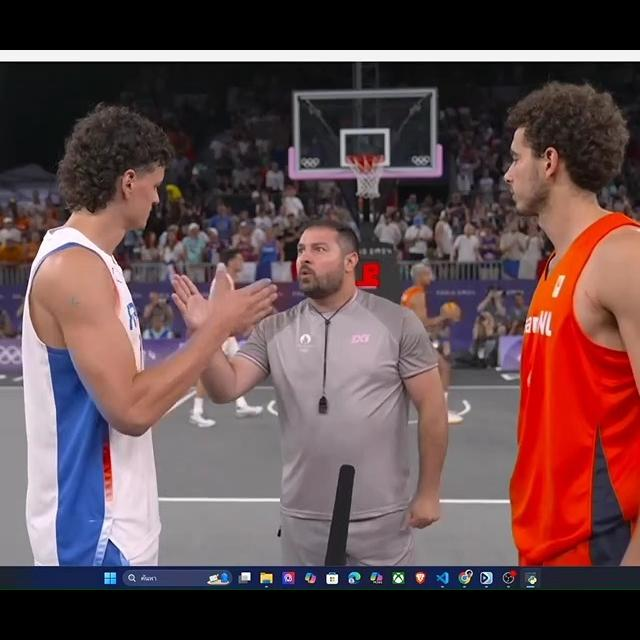hoop: (345, 153, 385, 198)
